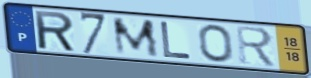7: (79, 11, 110, 56)
L: (158, 20, 194, 61)
M: (110, 17, 162, 59)
O: (197, 23, 236, 64)
R: (234, 24, 279, 70), (32, 9, 78, 53)
